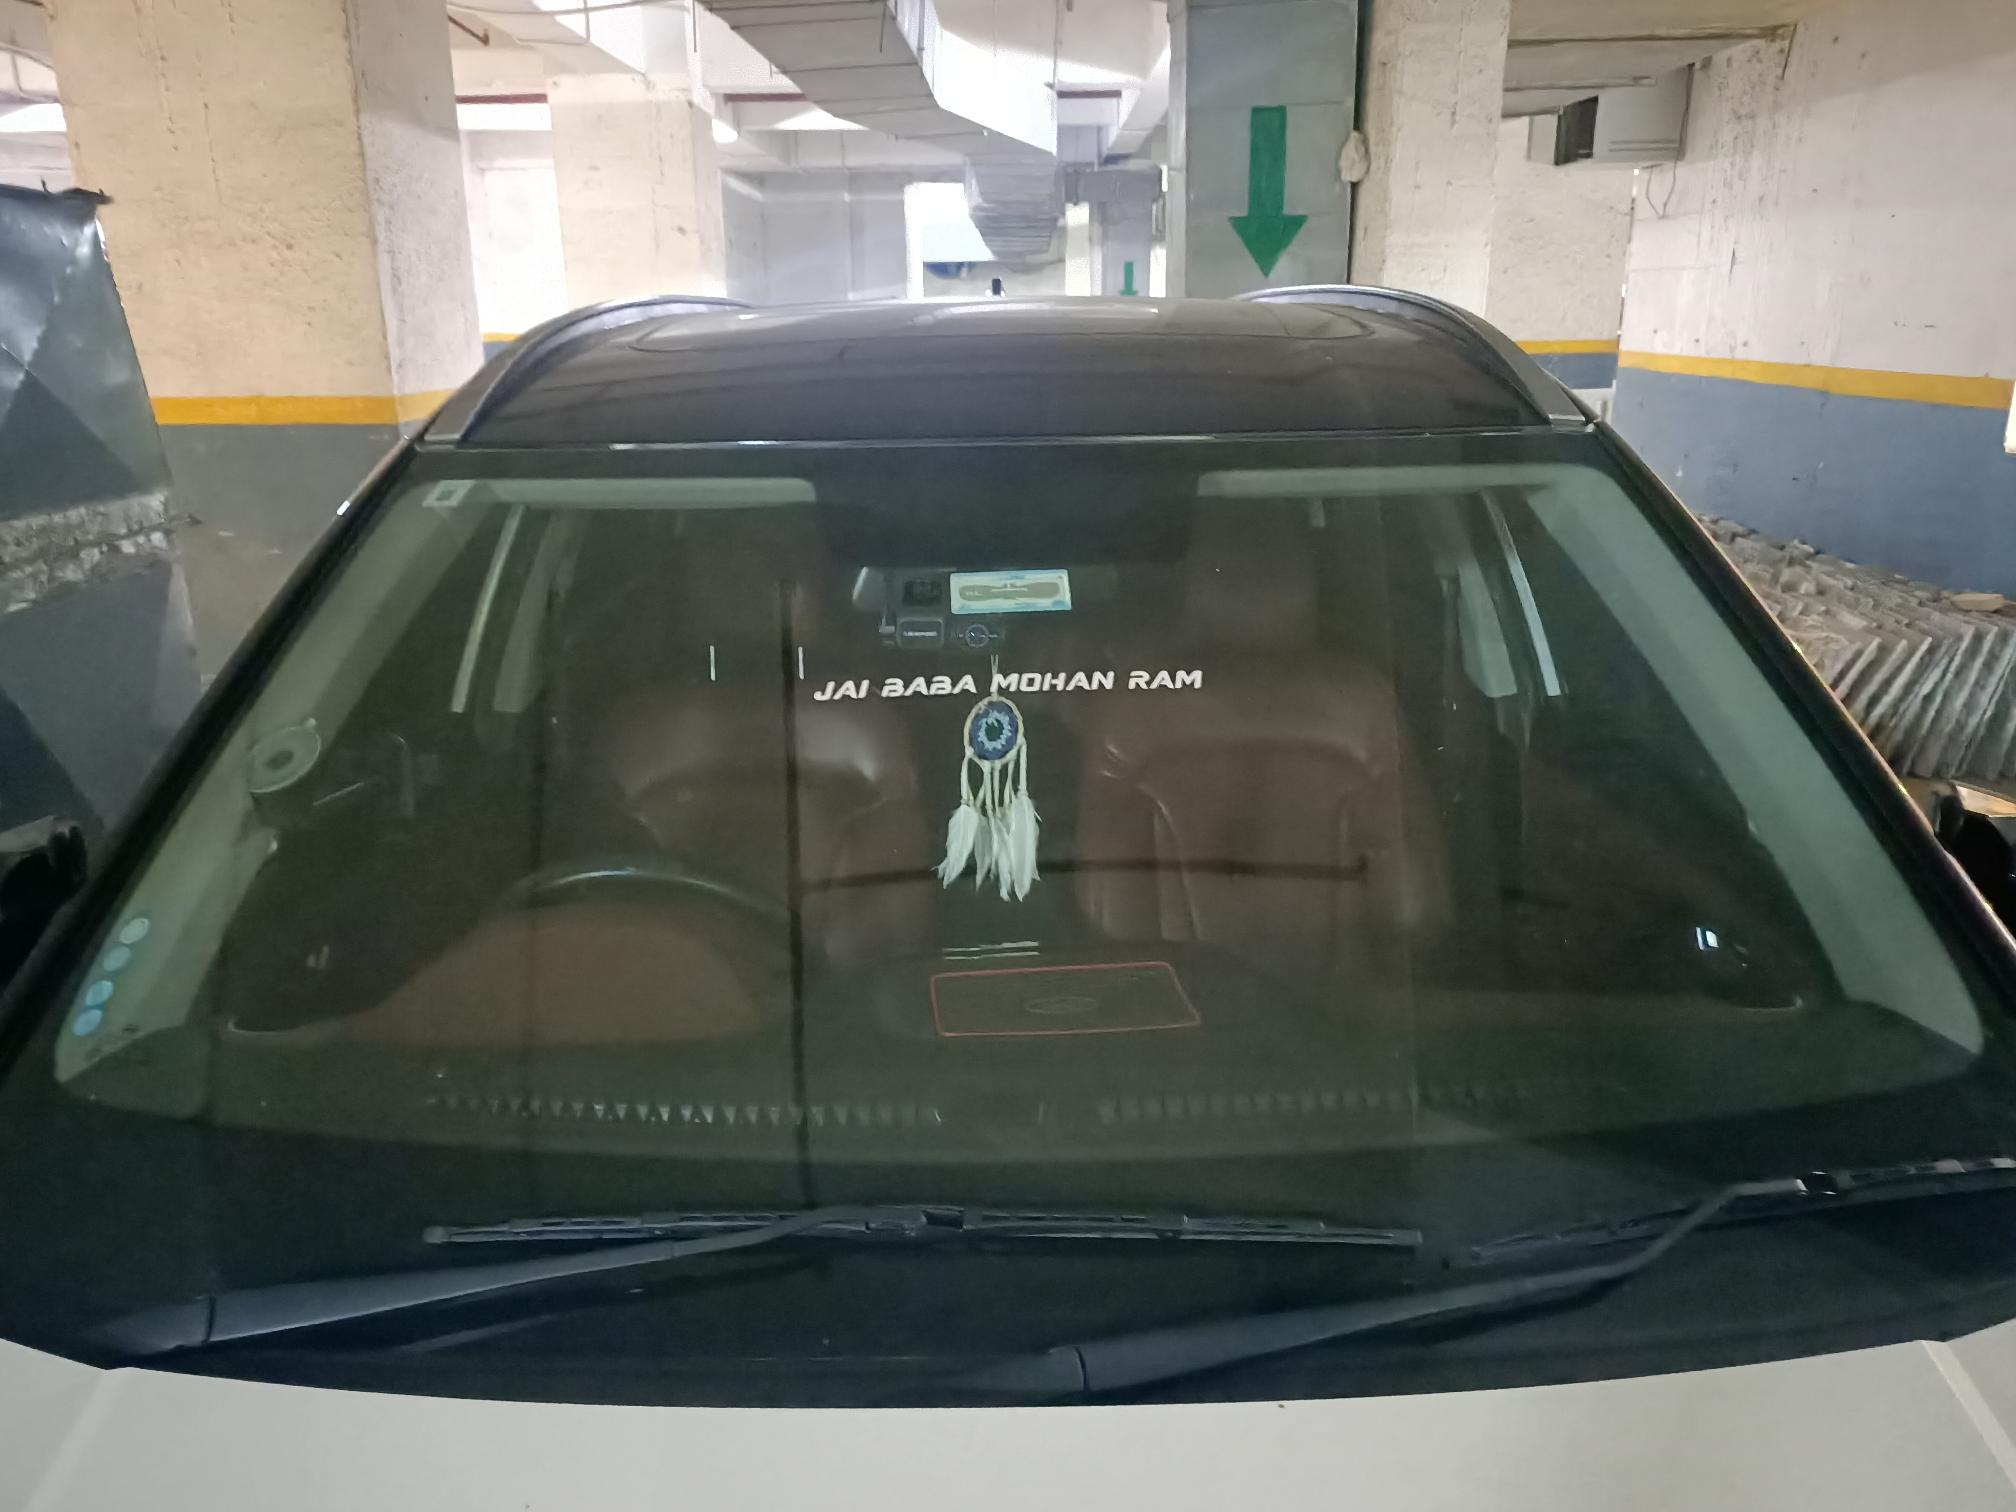FastTag: (943, 557, 1086, 626)
